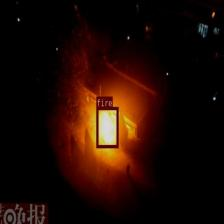fire: (96, 107, 118, 147)
